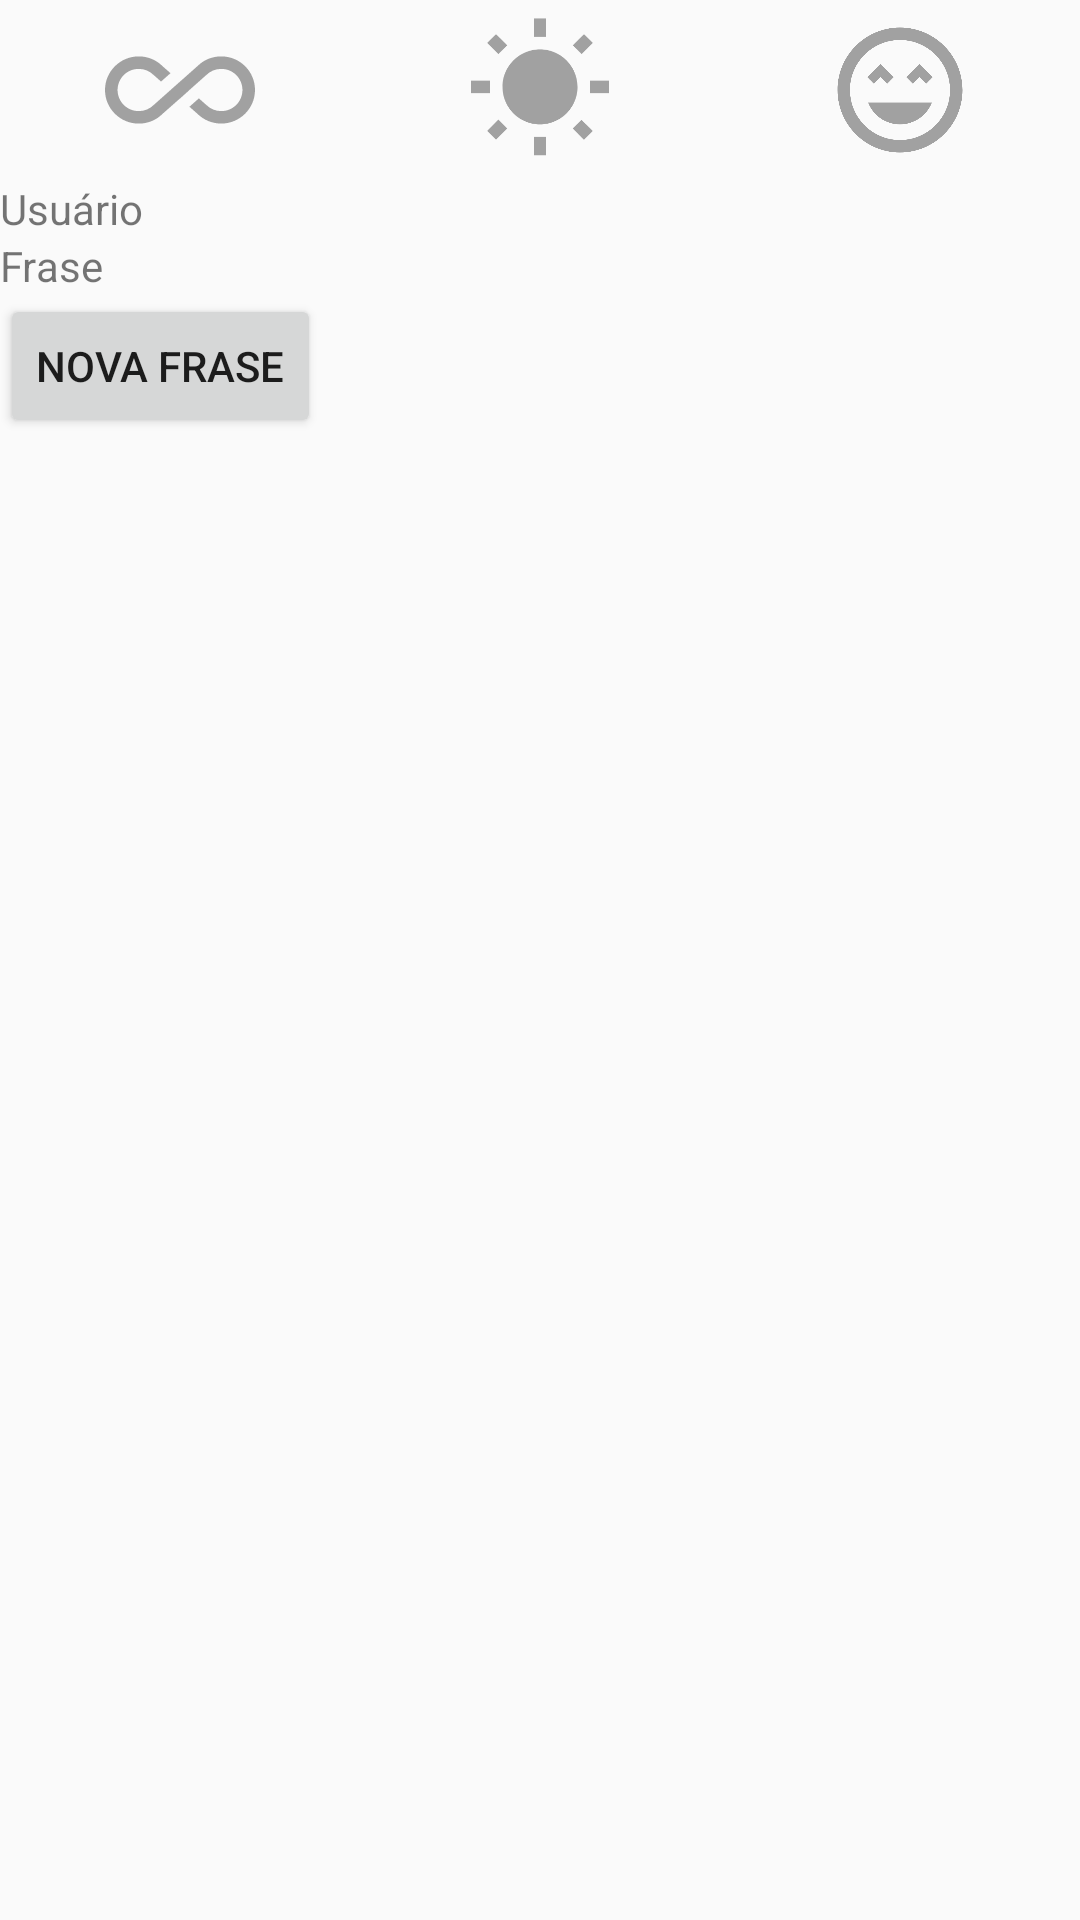

Icons on this 1080px x 1920px Android screen, each with its box as (x1, y1, x2, y2):
happy: (837, 27, 963, 153)
infinity: (105, 56, 255, 124)
sun: (471, 18, 609, 155)
